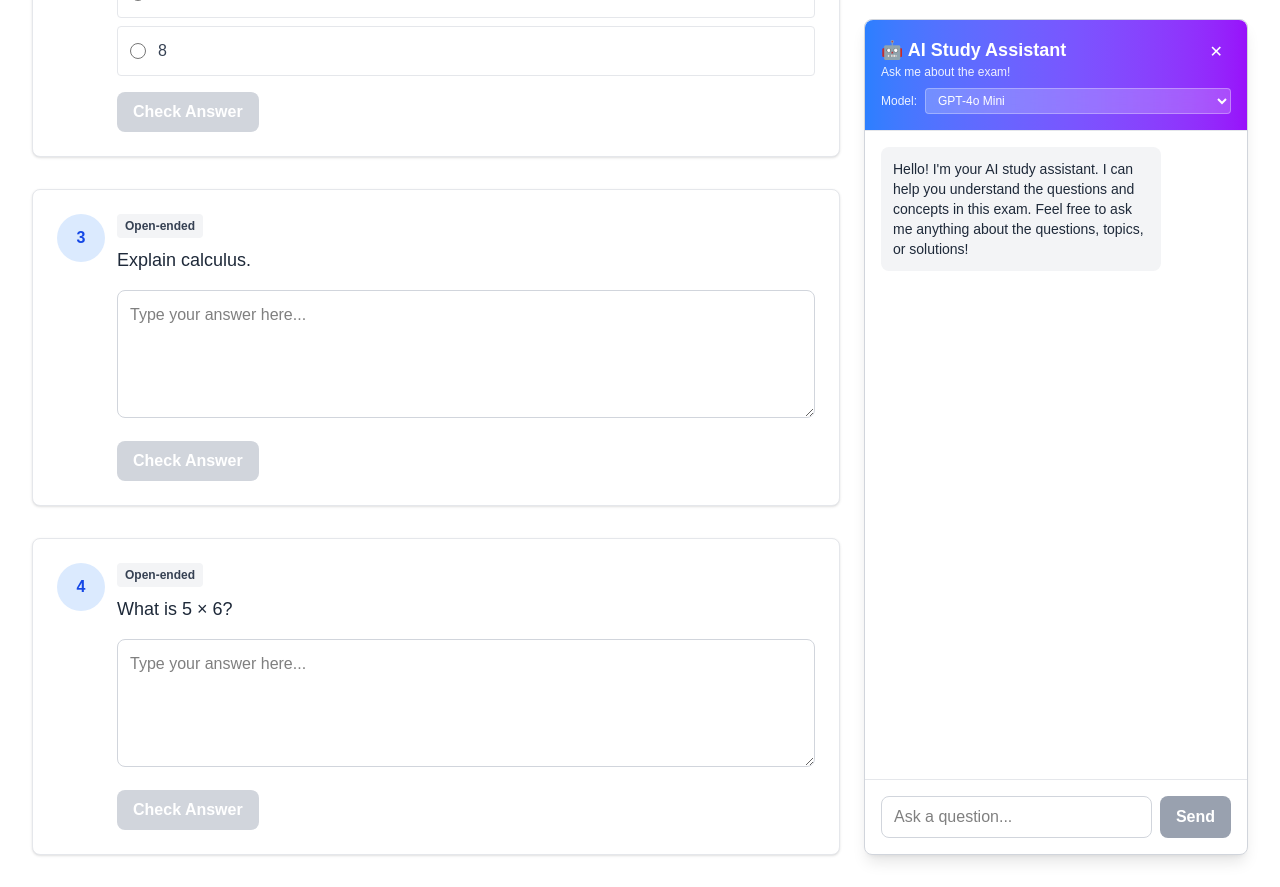
Scenario: ExamViewer - Answer Verification Display › should show AI badge for AI-generated answers
The width and height of the screenshot is (1280, 887).
(page scrolled)
Expected: the text "What is 5 × 6?" is shown, [117,599,233,619]
Type answer
Type "My answer" into the text box with placeholder "Type your answer here..." below "What is 5 × 6?" at (466, 703), box [117,639,815,767]
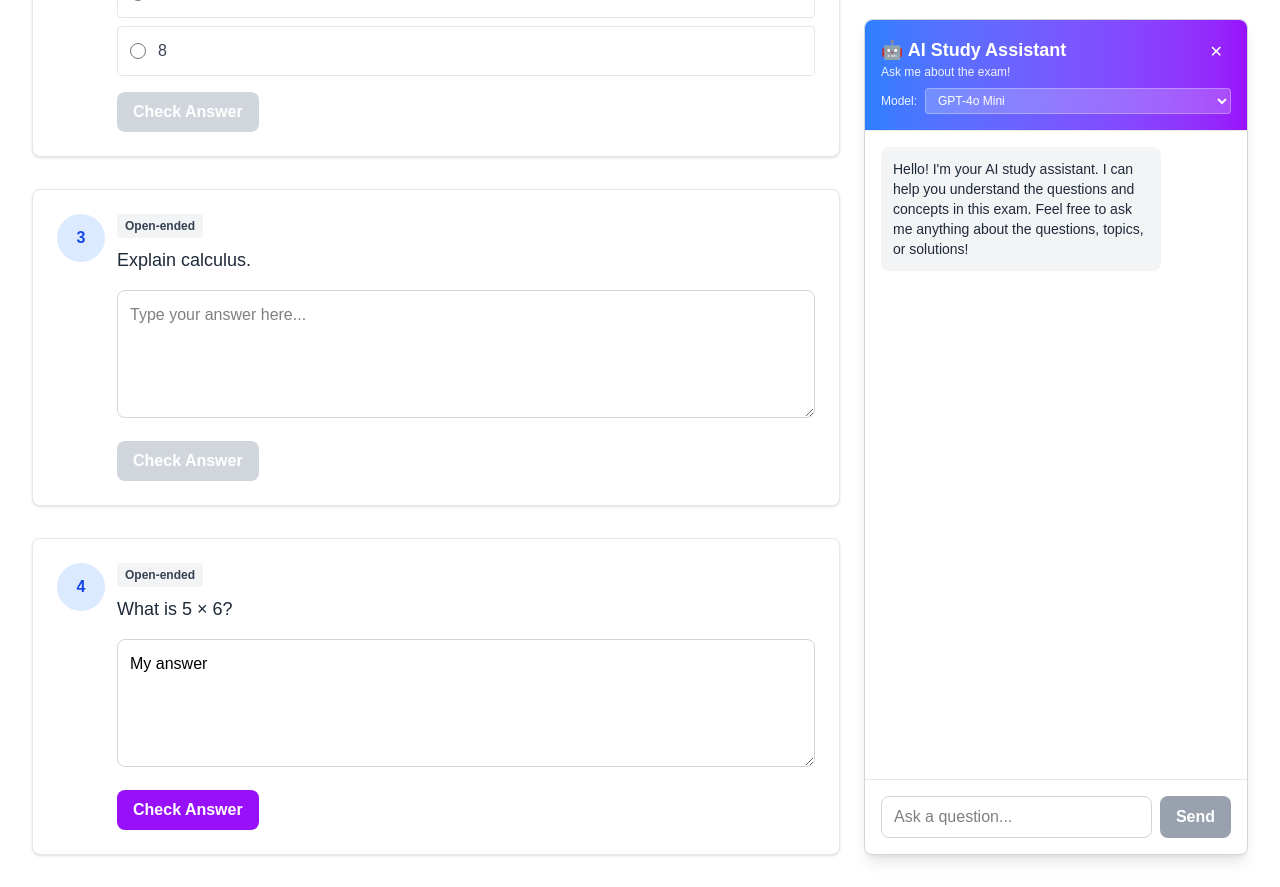
Check answer
Click the button "Check Answer" below "What is 5 × 6?" at (188, 810), box [117,790,259,830]
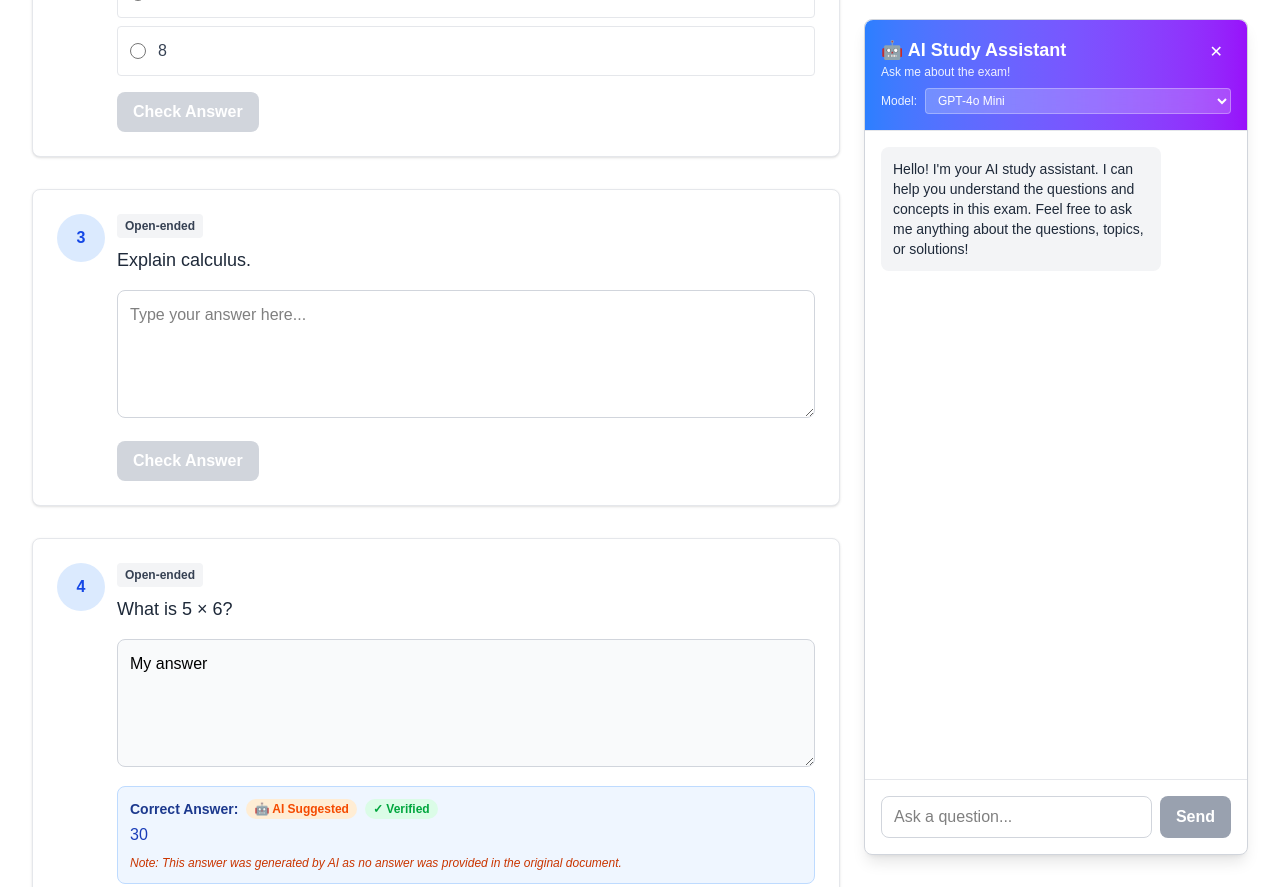
Now the text "🤖 AI Suggested" is shown, box [246,799,357,819]
Now the text "This answer was generated by AI" is shown, box [130,856,622,870]
